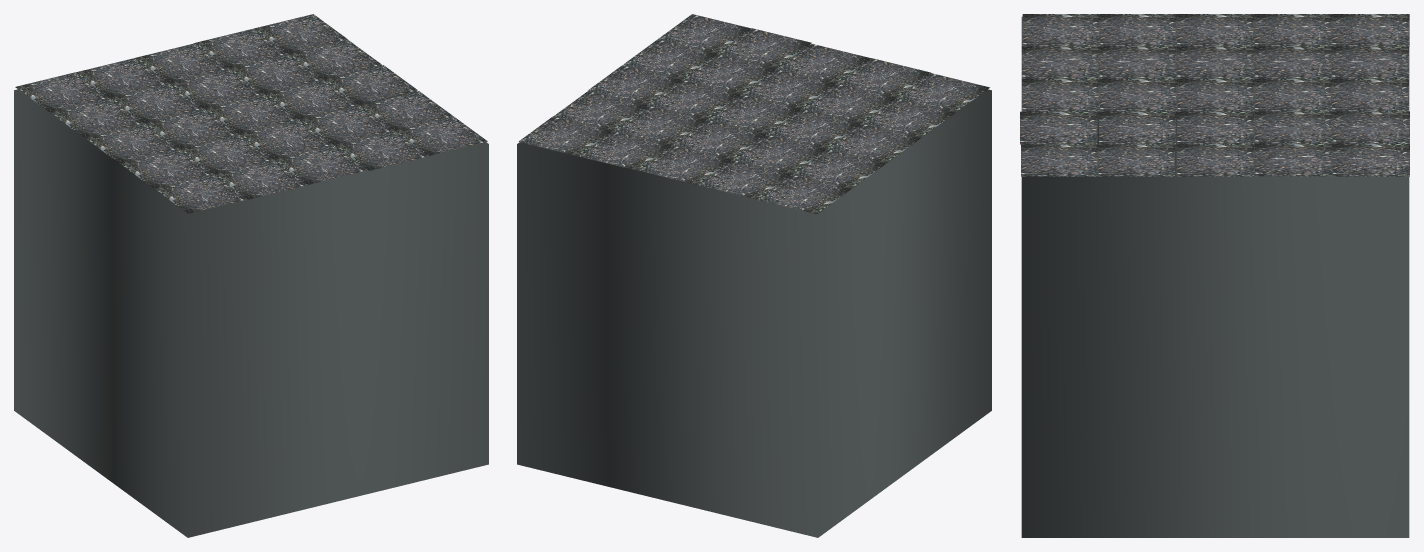
File: floor.fbx
The picture shows the model from 3 angles, left to right: view 1: azimuth 30°, elevation 25°; view 2: azimuth 150°, elevation 25°; view 3: azimuth 270°, elevation 25°; orthographic projection. The views are drawn at different scales.
Visible parts, largest first — view 1: 平面.024; view 2: 平面.024; view 3: 平面.024.
Part boxes in pixels (bbox=[...]): 平面.024: bbox=[14, 14, 488, 537]; 平面.024: bbox=[517, 14, 991, 537]; 平面.024: bbox=[1020, 14, 1409, 537].
Size of the model in its own units: 200 by 205 by 201.
